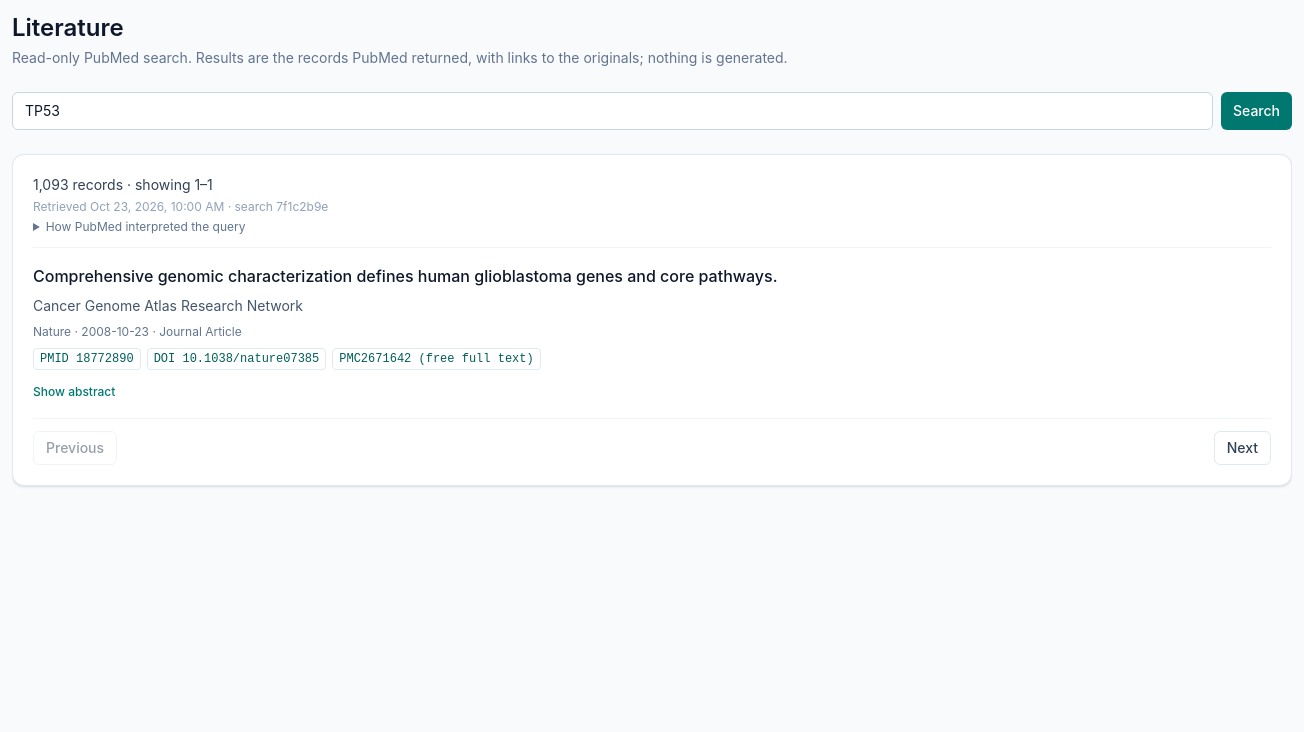
Test: LiteraturePage › renders abstract text as text, never as HTML
Click the button "Show abstract": {"x": 74, "y": 392} [33,384,115,400]
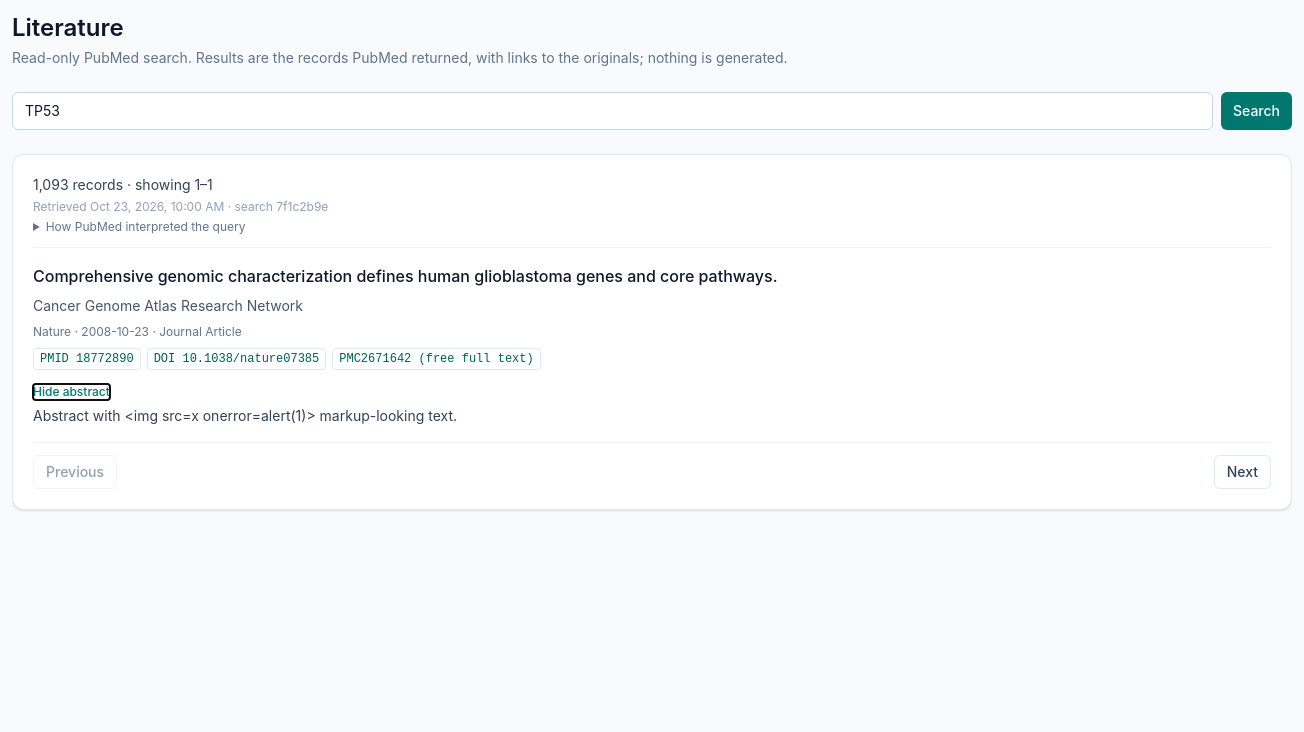
Now the text "markup-looking text" shows "<img src=x onerror=alert(1)>", box [33,407,457,424]
